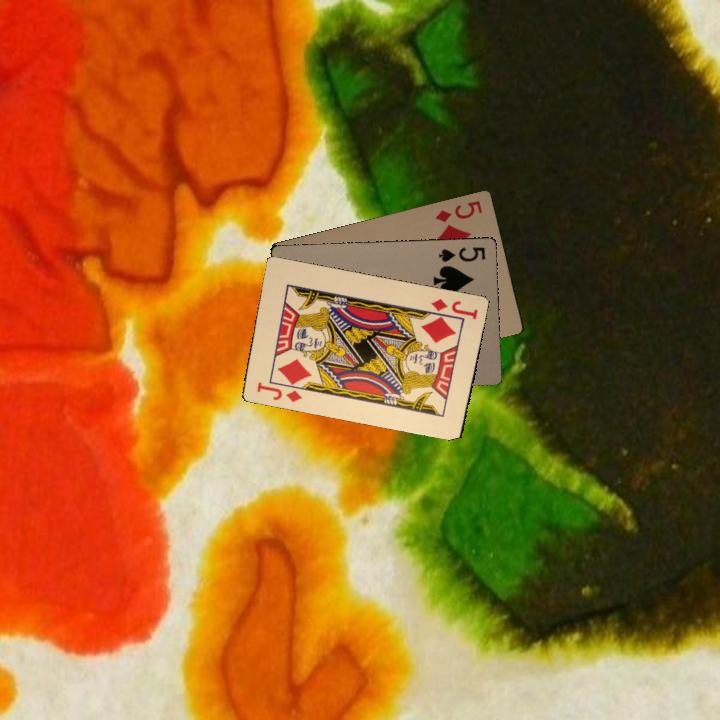5d: (431, 196, 485, 225)
5s: (435, 243, 487, 265)
Jd: (423, 295, 480, 322), (252, 378, 304, 405)
